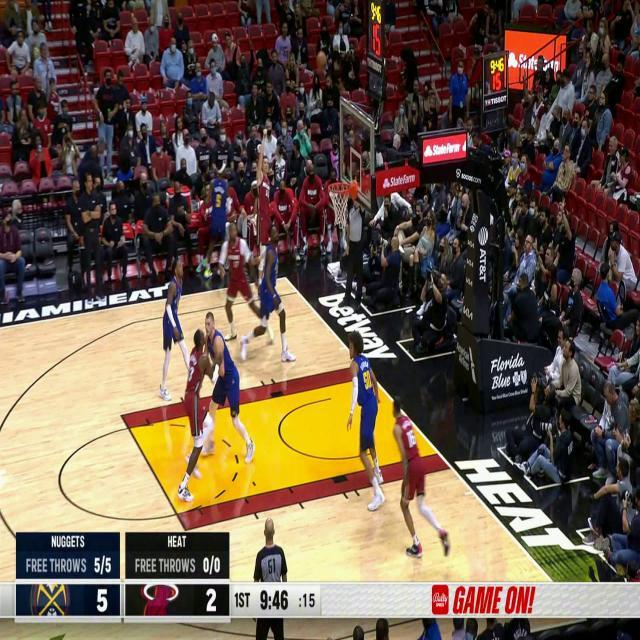rim: (316, 50, 326, 74)
